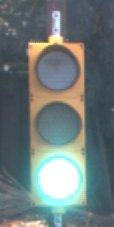Green: (17, 29, 91, 202)
